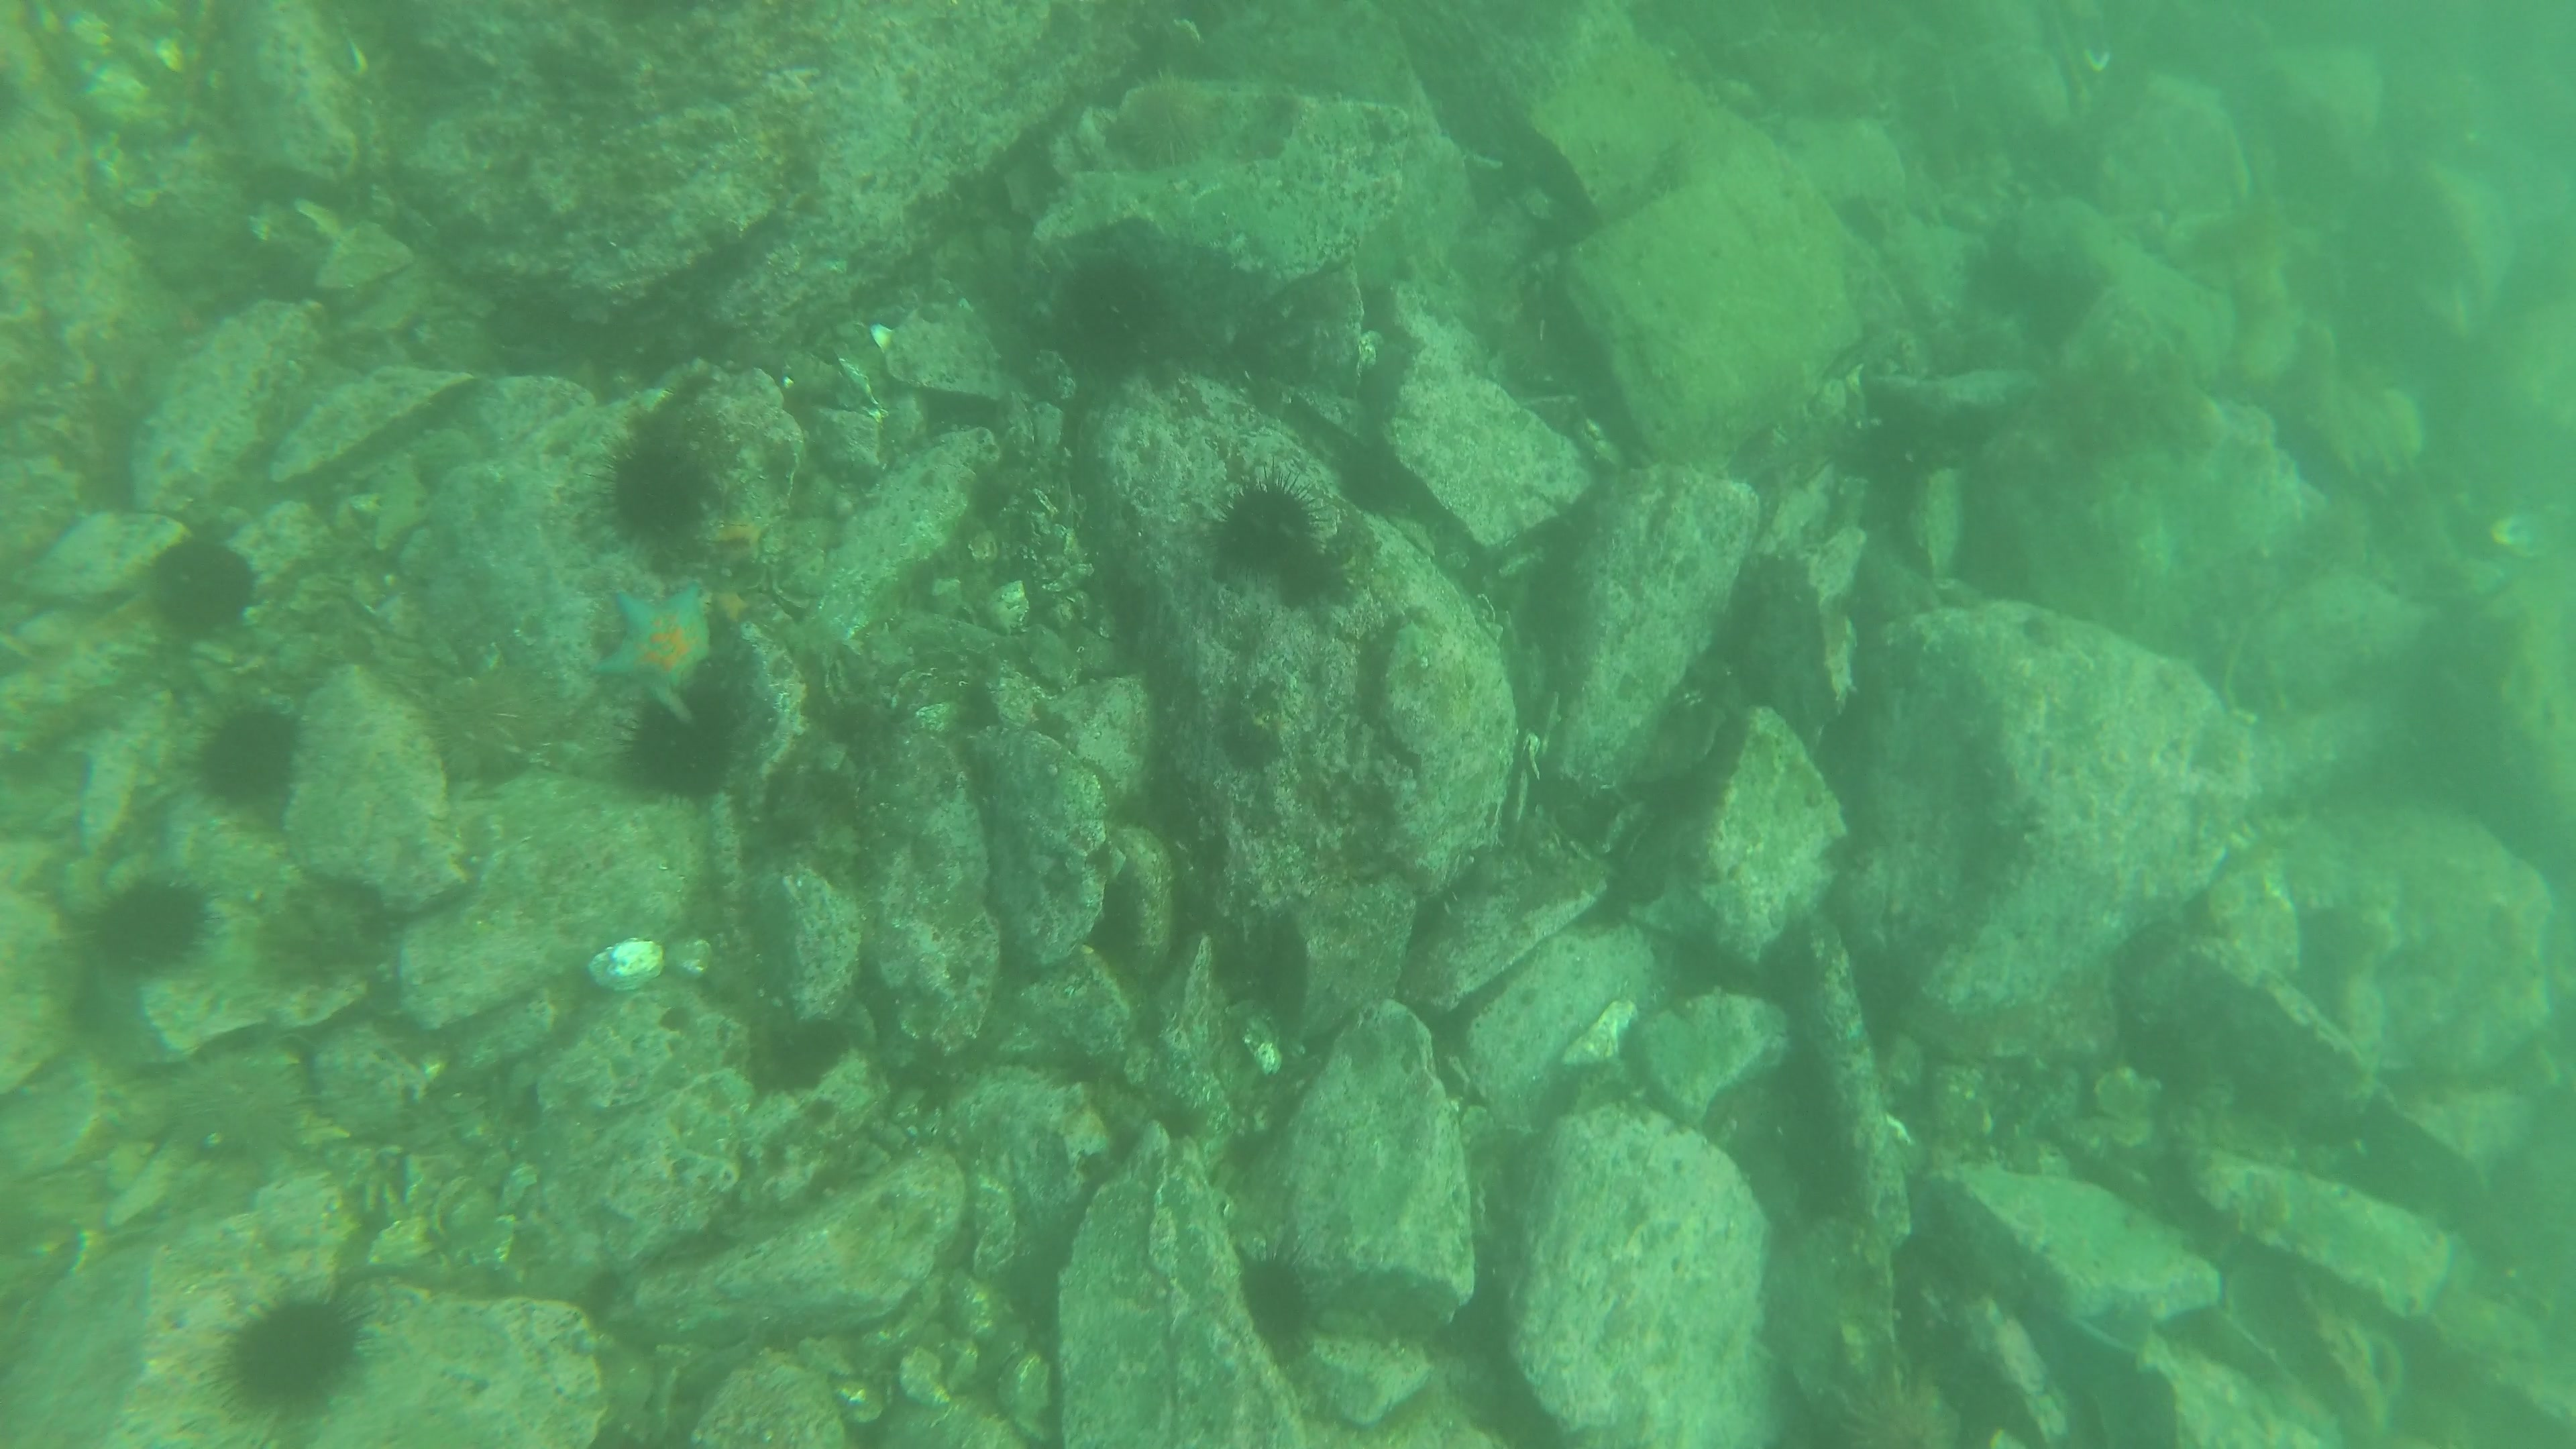echinus: (218, 1281, 373, 1417), (1194, 469, 1325, 586), (607, 702, 747, 807), (586, 439, 713, 550), (1106, 65, 1230, 179), (416, 674, 531, 786), (195, 704, 304, 814), (1053, 253, 1171, 354), (97, 879, 211, 978), (152, 543, 260, 639), (1221, 1240, 1323, 1339)
starfish: (586, 577, 727, 713)
